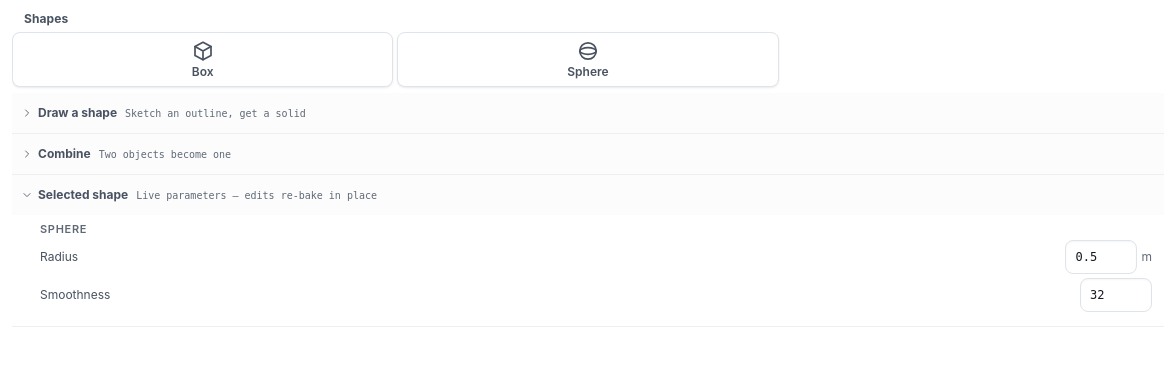
Test case: a refused parameter edit resyncs the field instead of re-submitting the refusal
Replace the text in the number field with test id "shape-param-radius" with "30" at (1102, 257), box x1=1066 y1=240 x2=1138 y2=274
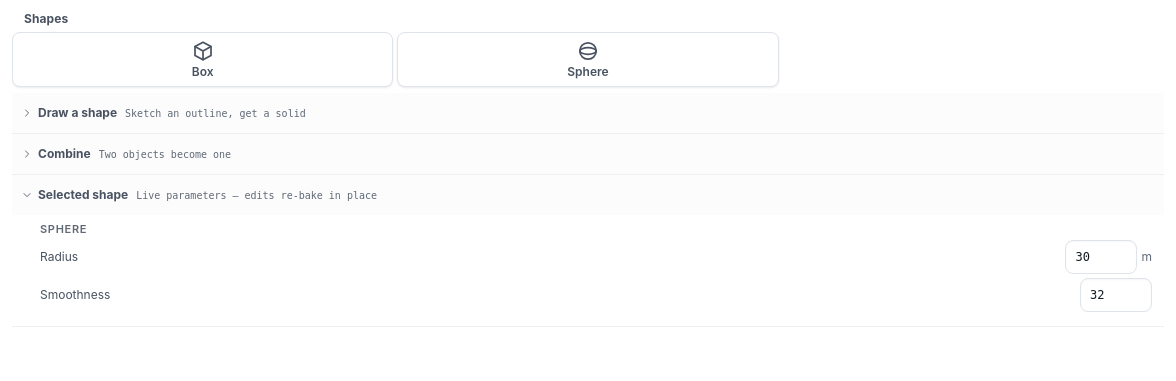
Leave the number field with test id "shape-param-radius", box x1=1066 y1=240 x2=1138 y2=274
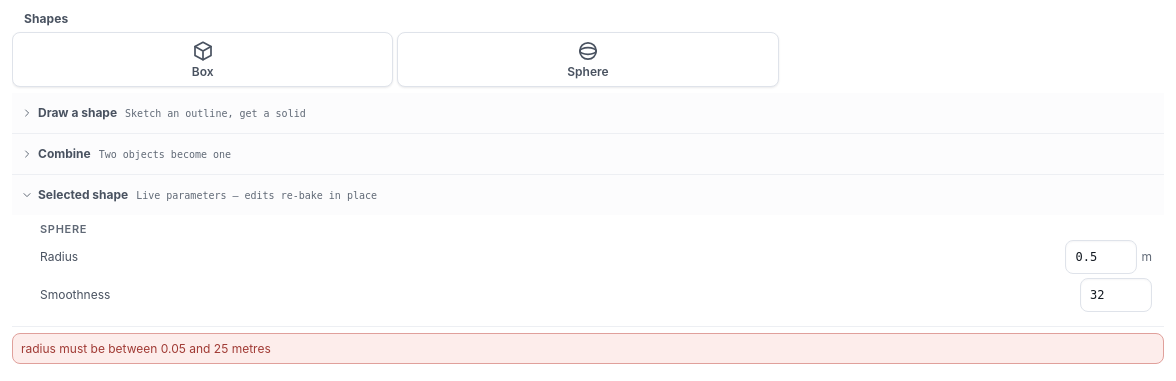
Expected: the message "radius must be between 0.05 and 25 metres" is shown, x1=12 y1=333 x2=1164 y2=364
Expected: the number field with test id "shape-param-radius" holds "0.5", x1=1066 y1=240 x2=1138 y2=274
